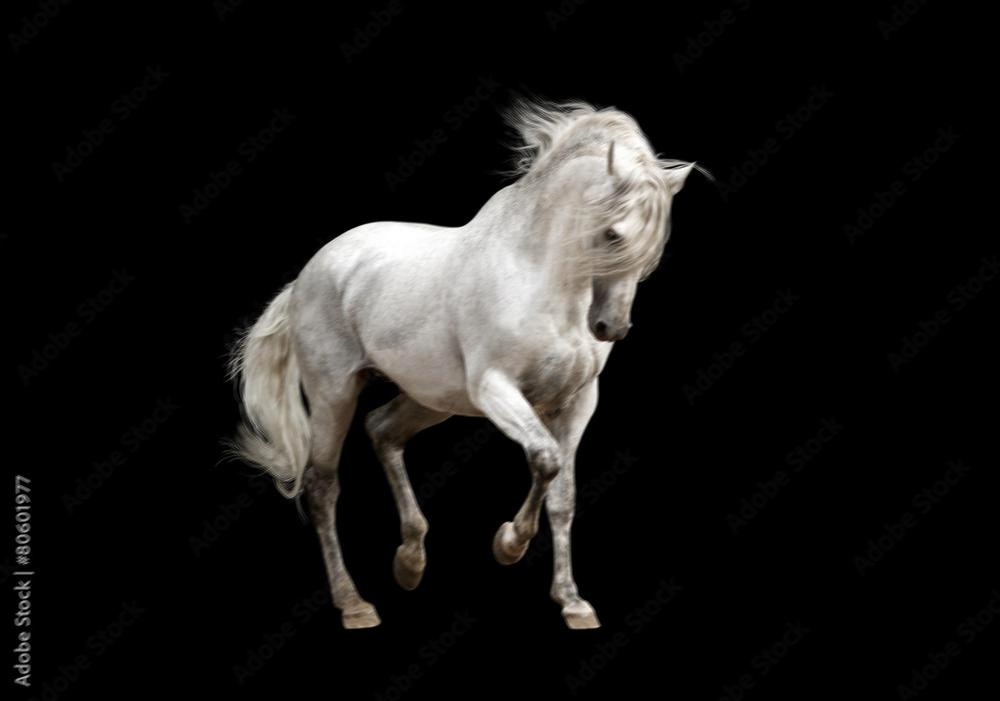horse: (211, 81, 720, 640)
